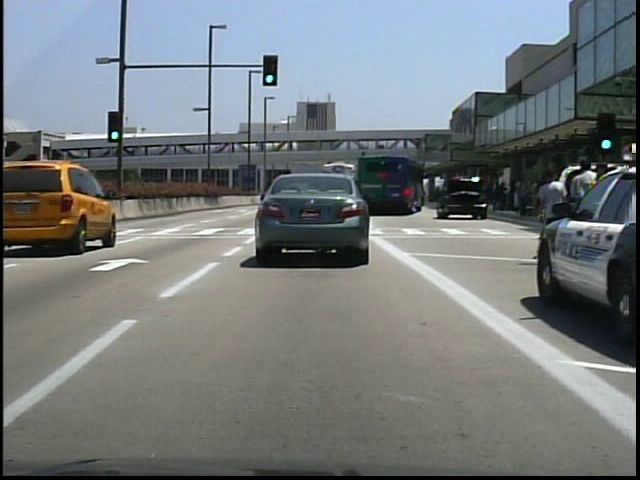person: (568, 153, 607, 275), (531, 162, 571, 266), (24, 166, 41, 228), (44, 170, 65, 219)
